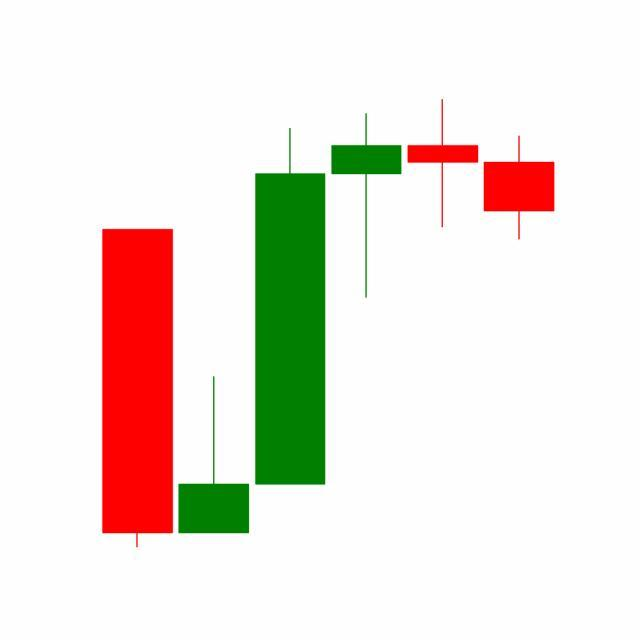Spinning Top: (404, 98, 482, 230)
